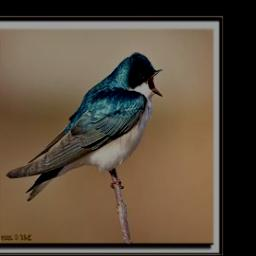Swallow: (5, 49, 166, 204)
